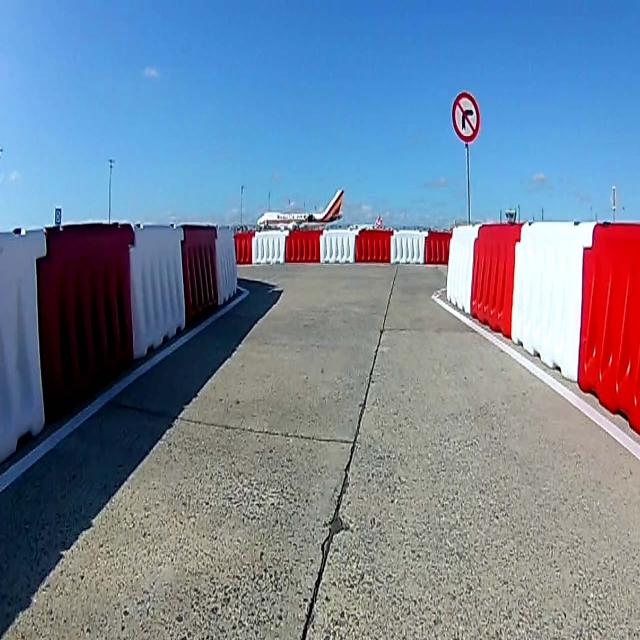sagadonulmez: (452, 91, 481, 144)
